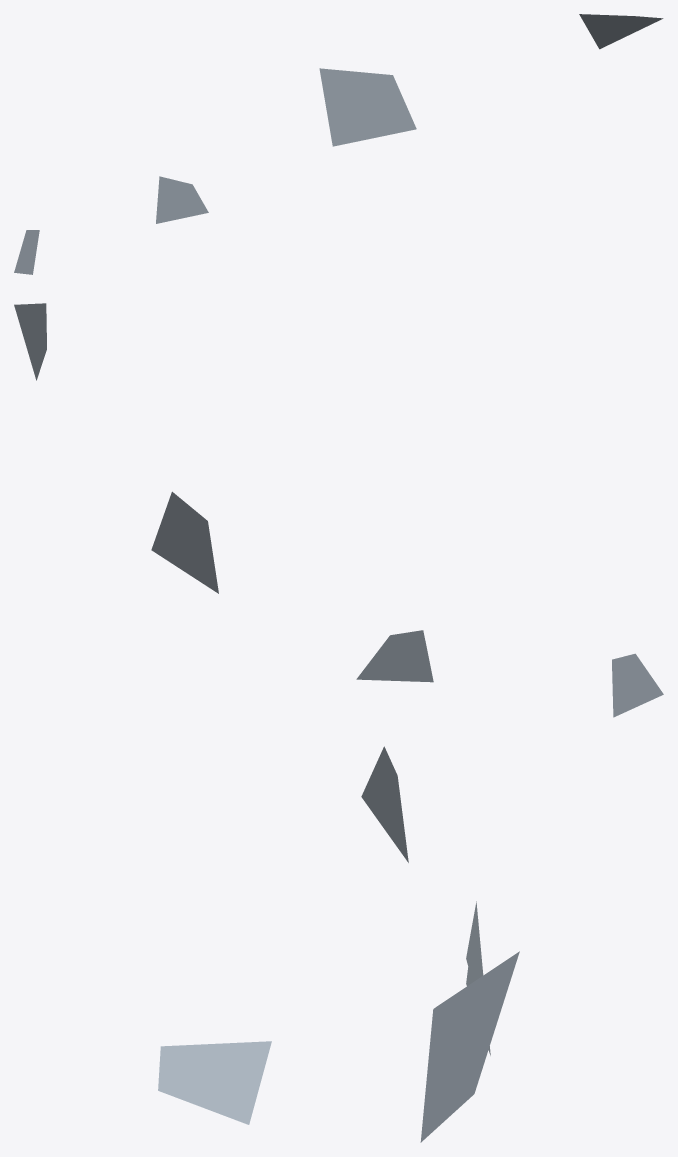
Rendered from interosseous-metacarpal-ligaments-l.glb.
3 views of the same model, one above another, from view 1: azimuth 30°, elevation 25°; view 2: azimuth 150°, elevation 25°; view 3: azimuth 270°, elevation 25° (orthographic). The views are drawn at different scales.
Parts seen in each view (by area): view 1: Interosseous metacarpal ligaments.l; view 2: Interosseous metacarpal ligaments.l; view 3: Interosseous metacarpal ligaments.l.
Boxes of the visible parts, x1,y1,x2,y2 form: Interosseous metacarpal ligaments.l: (14, 14, 663, 274); Interosseous metacarpal ligaments.l: (14, 303, 663, 717); Interosseous metacarpal ligaments.l: (158, 746, 519, 1142).
Size of the model in its own units: 0.0356 by 0.00982 by 0.0093.
